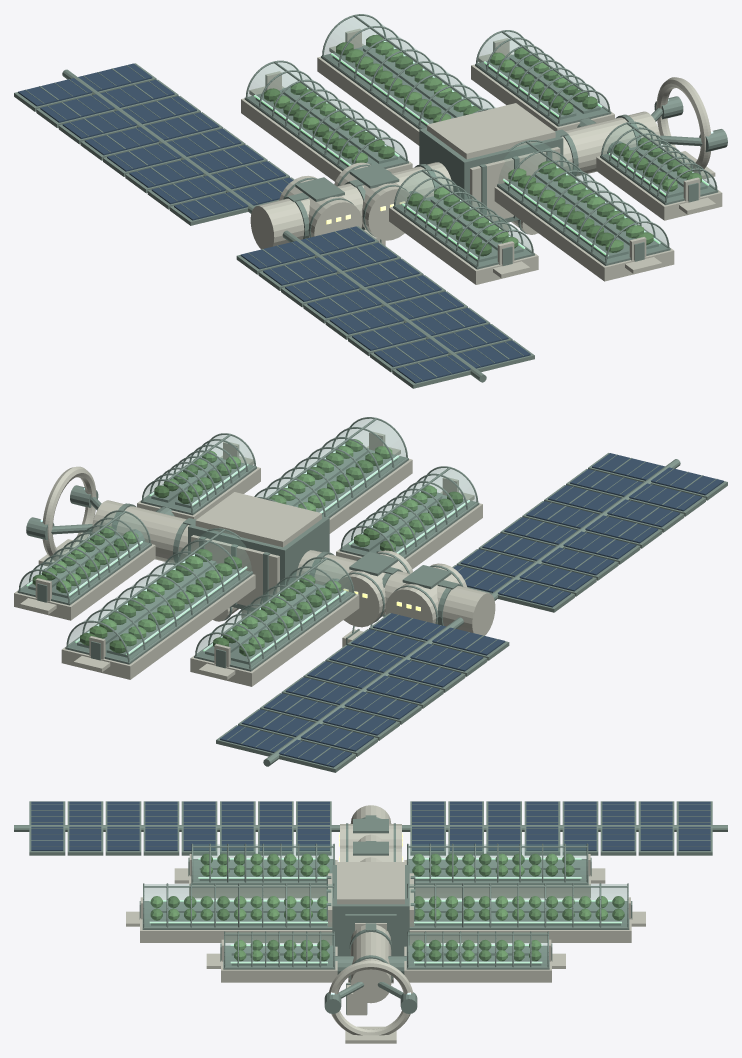
The model's file is garden_keepers.glb.
3 views of the same model, one above another, from view 1: azimuth 30°, elevation 25°; view 2: azimuth 150°, elevation 25°; view 3: azimuth 270°, elevation 25° (orthographic). The views are drawn at different scales.
Visible parts, largest first — view 1: Greenhouse glass | Tinted greenhouse glass, Greenhouse structure | Sage frames and armour, Solar Port | Solar cells, Solar Starboard | Solar cells, Simple planted masses | Crop masses, Hub and vault | Warm ivory hull, Greenhouse structure | Warm ivory hull, Solar Port | Sage frames and armour, Solar Starboard | Sage frames and armour, Hub and vault | Sage frames and armour, Docking ring | Warm ivory hull, Growing lights | Growing light (+1 smaller); view 2: Greenhouse glass | Tinted greenhouse glass, Greenhouse structure | Sage frames and armour, Solar Starboard | Solar cells, Solar Port | Solar cells, Hub and vault | Warm ivory hull, Simple planted masses | Crop masses, Greenhouse structure | Warm ivory hull, Solar Starboard | Sage frames and armour, Solar Port | Sage frames and armour, Hub and vault | Sage frames and armour, Docking ring | Warm ivory hull, Growing lights | Growing light (+1 smaller); view 3: Greenhouse glass | Tinted greenhouse glass, Greenhouse structure | Sage frames and armour, Greenhouse structure | Warm ivory hull, Simple planted masses | Crop masses, Solar Port | Solar cells, Solar Starboard | Solar cells, Hub and vault | Warm ivory hull, Solar Port | Sage frames and armour, Solar Starboard | Sage frames and armour, Hub and vault | Sage frames and armour, Growing lights | Growing light, Docking ring | Warm ivory hull (+2 smaller).
Boxes of the visible parts, <box> form: Greenhouse glass | Tinted greenhouse glass: <box>247,16,715,265</box>; Greenhouse structure | Sage frames and armour: <box>244,14,718,269</box>; Solar Port | Solar cells: <box>240,226,530,383</box>; Solar Starboard | Solar cells: <box>18,63,293,220</box>; Simple planted masses | Crop masses: <box>264,34,701,256</box>; Hub and vault | Warm ivory hull: <box>250,103,660,249</box>; Greenhouse structure | Warm ivory hull: <box>241,28,722,284</box>; Solar Port | Sage frames and armour: <box>236,226,534,388</box>; Solar Starboard | Sage frames and armour: <box>14,63,294,225</box>; Hub and vault | Sage frames and armour: <box>283,114,640,239</box>; Docking ring | Warm ivory hull: <box>656,77,715,178</box>; Growing lights | Growing light: <box>254,41,709,259</box>; Greenhouse glass | Tinted greenhouse glass: <box>20,418,476,667</box>; Greenhouse structure | Sage frames and armour: <box>17,417,479,671</box>; Solar Starboard | Solar cells: <box>220,613,505,767</box>; Solar Port | Solar cells: <box>453,453,723,607</box>; Hub and vault | Warm ivory hull: <box>92,492,495,635</box>; Simple planted masses | Crop masses: <box>32,439,462,656</box>; Greenhouse structure | Warm ivory hull: <box>14,432,482,686</box>; Solar Starboard | Sage frames and armour: <box>216,613,509,772</box>; Solar Port | Sage frames and armour: <box>452,453,727,612</box>; Hub and vault | Sage frames and armour: <box>111,503,463,625</box>; Docking ring | Warm ivory hull: <box>38,466,96,566</box>; Growing lights | Growing light: <box>26,444,469,661</box>; Greenhouse glass | Tinted greenhouse glass: <box>144,844,626,965</box>; Greenhouse structure | Sage frames and armour: <box>139,843,632,977</box>; Greenhouse structure | Warm ivory hull: <box>126,854,645,982</box>; Simple planted masses | Crop masses: <box>150,853,624,961</box>; Solar Port | Solar cells: <box>31,801,329,850</box>; Solar Starboard | Solar cells: <box>412,801,710,850</box>; Hub and vault | Warm ivory hull: <box>328,805,413,1003</box>; Solar Port | Sage frames and armour: <box>14,801,339,855</box>; Solar Starboard | Sage frames and armour: <box>402,801,727,855</box>; Hub and vault | Sage frames and armour: <box>326,815,415,982</box>; Growing lights | Growing light: <box>149,858,621,963</box>; Docking ring | Warm ivory hull: <box>329,960,412,1043</box>.
Bounding box in the file's own units: 404 × 90 × 600.
